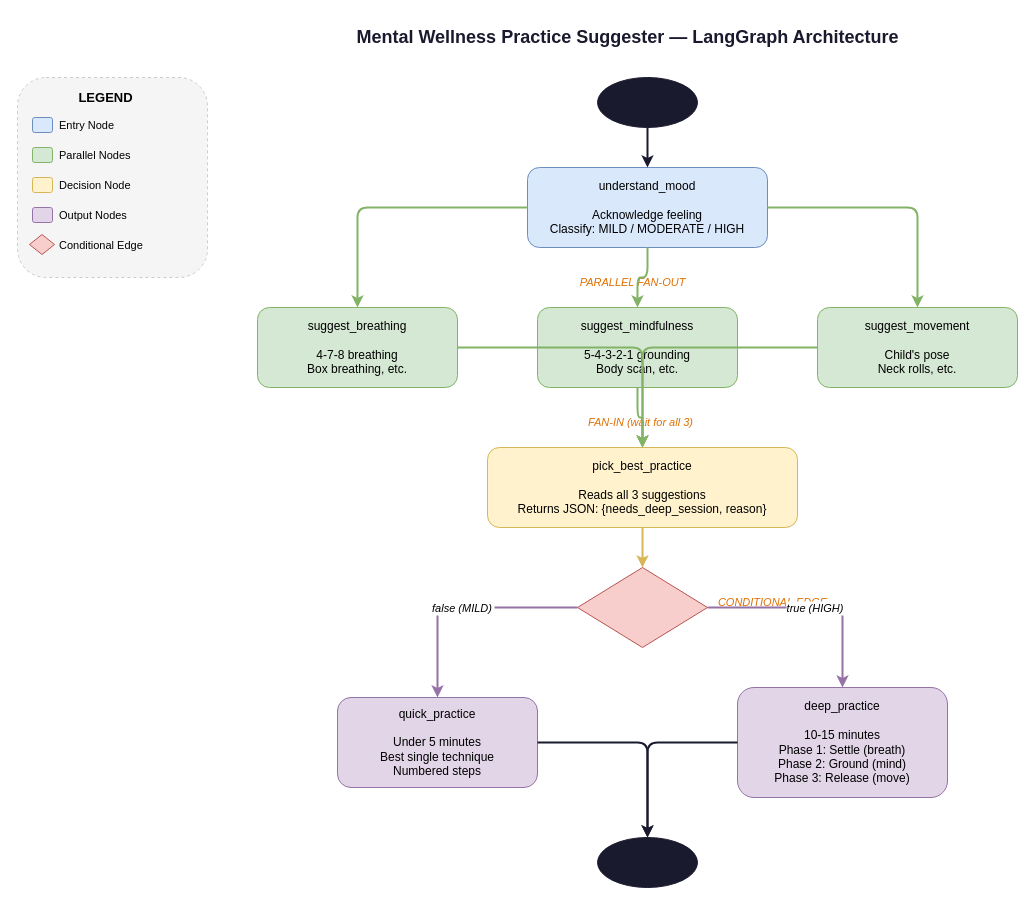
The diagram is 1035 pixels wide and 905 high, and some of its shapes have lost their labels. The shapes that lost their labels are listed below. From the top down, each one's centre as x and y in pixels, then its label:
At (647,102): "START".
At (642,607): "needs_deep _session?".
At (647,862): "END".
